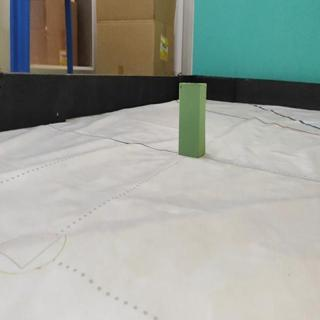greenbox: (178, 81, 206, 157)
